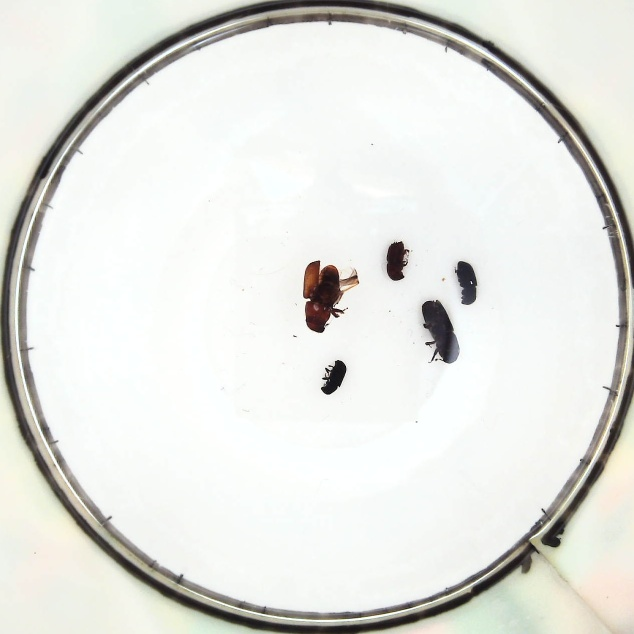armandi: (453, 258, 481, 307)
boerner: (420, 301, 458, 363)
coleoptera: (320, 357, 349, 396)
leconte: (302, 258, 358, 331)
linnaeus: (384, 243, 409, 280)
